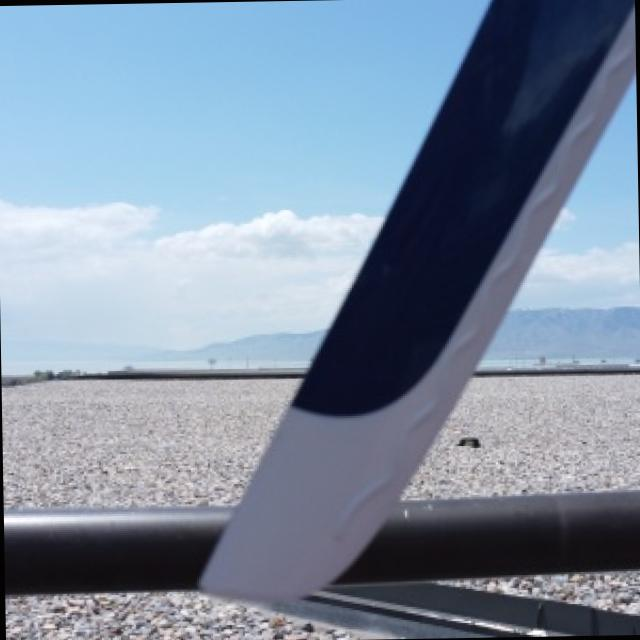healthy: (549, 88, 636, 245)
